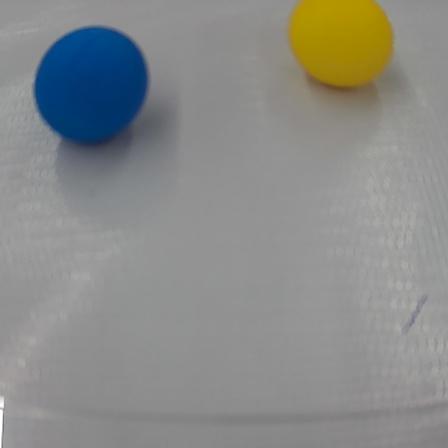blue: (23, 22, 154, 149)
yellow: (283, 0, 400, 90)
